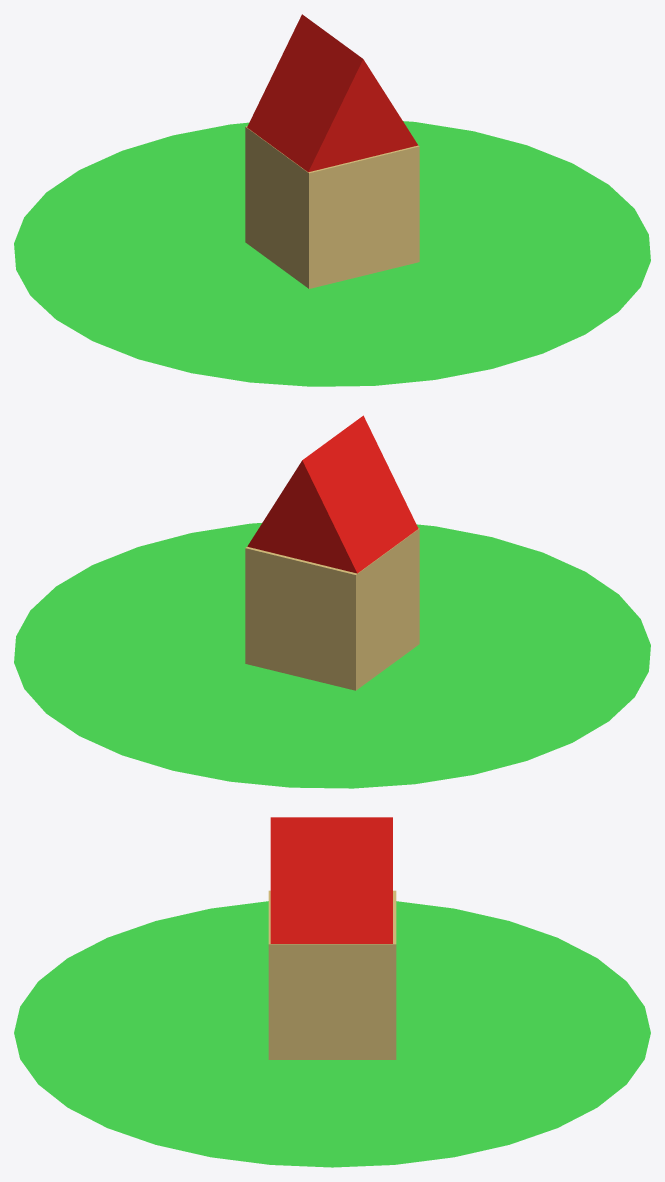
The model's file is house.fbx.
3 views of the same model, one above another, from view 1: azimuth 30°, elevation 25°; view 2: azimuth 150°, elevation 25°; view 3: azimuth 270°, elevation 25° (orthographic).
Parts seen in each view (by area): view 1: base.001; view 2: base.001; view 3: base.001.
Boxes of the visible parts, x1,y1,x2,y2 form: base.001: (14,14,650,386); base.001: (14,415,650,788); base.001: (14,817,650,1167).
Size of the model in its own units: 1000 by 373 by 1000.
